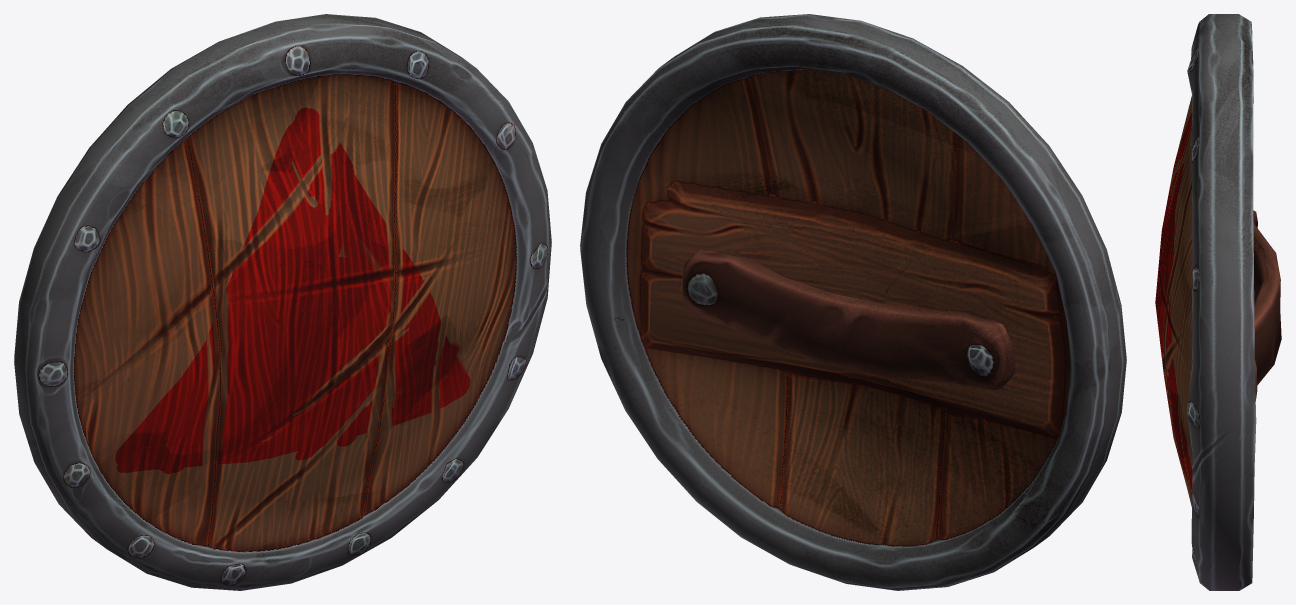
File: LowPoly.fbx
3 views of the same model, side by side, from view 1: azimuth 30°, elevation 25°; view 2: azimuth 150°, elevation 25°; view 3: azimuth 270°, elevation 25° (orthographic). The views are drawn at different scales.
Visible parts, largest first — view 1: Plane.003; view 2: Plane.003; view 3: Plane.003.
Boxes of the visible parts, box(x1,y1,x2,y2) form: Plane.003: box(14, 14, 551, 590); Plane.003: box(580, 14, 1126, 590); Plane.003: box(1155, 14, 1281, 590).
Bounding box in the file's own units: 214 × 214 × 46.87.
